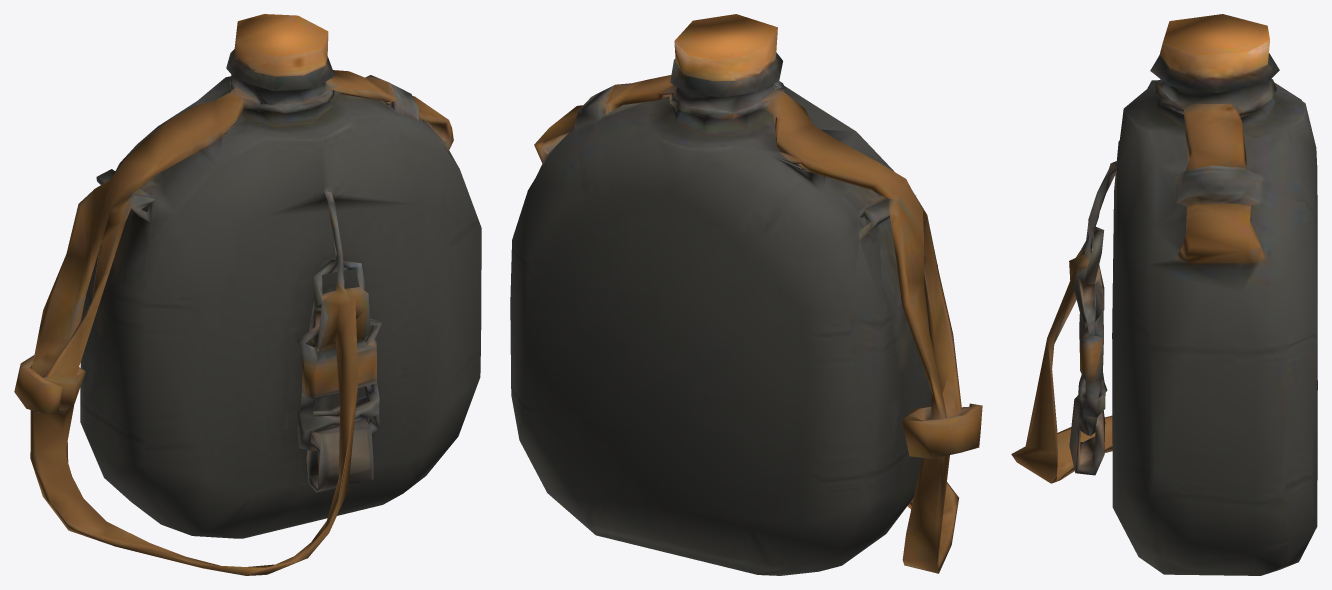
The model's file is canteen.glb.
3 views of the same model, side by side, from view 1: azimuth 30°, elevation 25°; view 2: azimuth 150°, elevation 25°; view 3: azimuth 270°, elevation 25° (orthographic). The views are drawn at different scales.
Parts seen in each view (by area): view 1: Mesh_0; view 2: Mesh_0; view 3: Mesh_0.
Part boxes in pixels (bbox=[...]): Mesh_0: bbox=[14, 14, 481, 575]; Mesh_0: bbox=[510, 14, 982, 575]; Mesh_0: bbox=[1011, 14, 1317, 575].
Bounding box in the file's own units: 0.9441 × 1 × 0.5597.
1 material, 1 textured.
